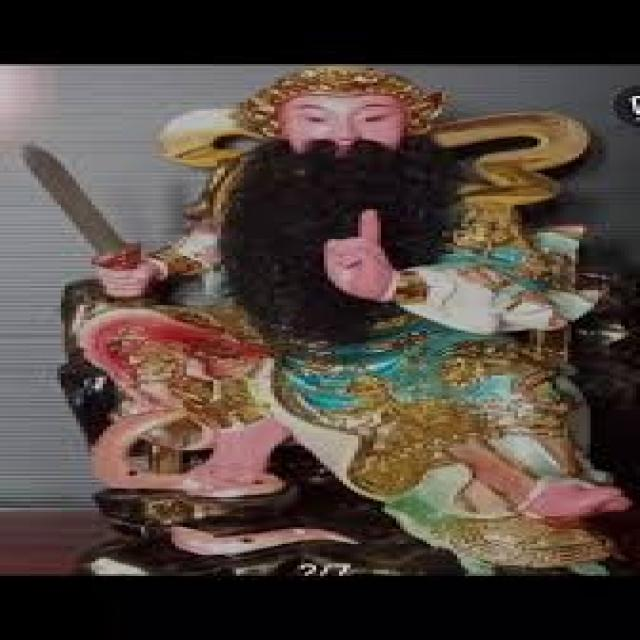Xuan wu: (92, 59, 585, 443)
